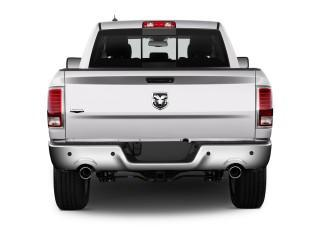ram: (145, 89, 174, 113)
